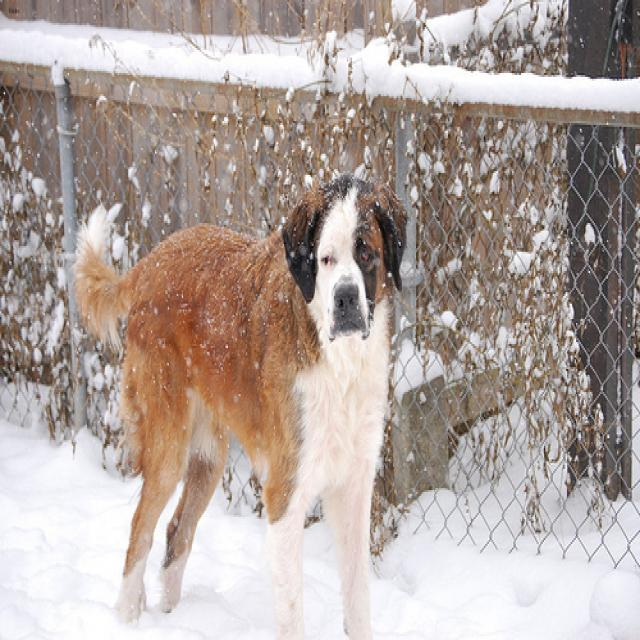dog: (281, 171, 404, 340)
